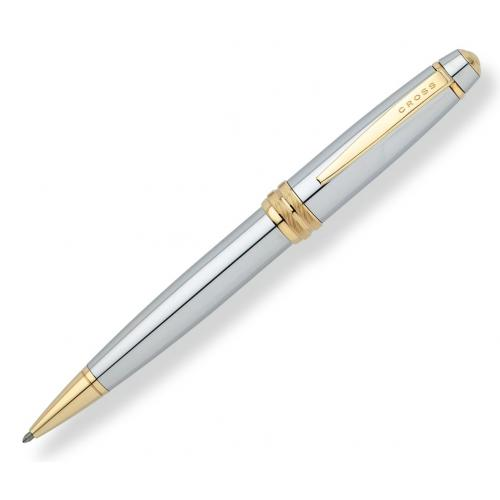Boligrafo: (17, 49, 482, 446)
